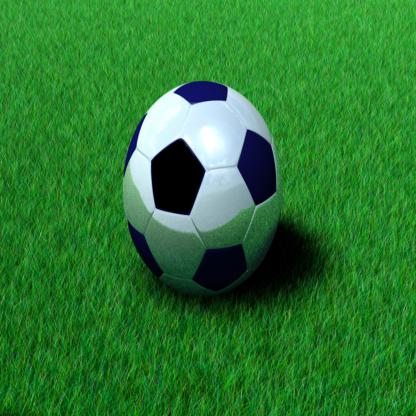Ball: (123, 82, 282, 298)
